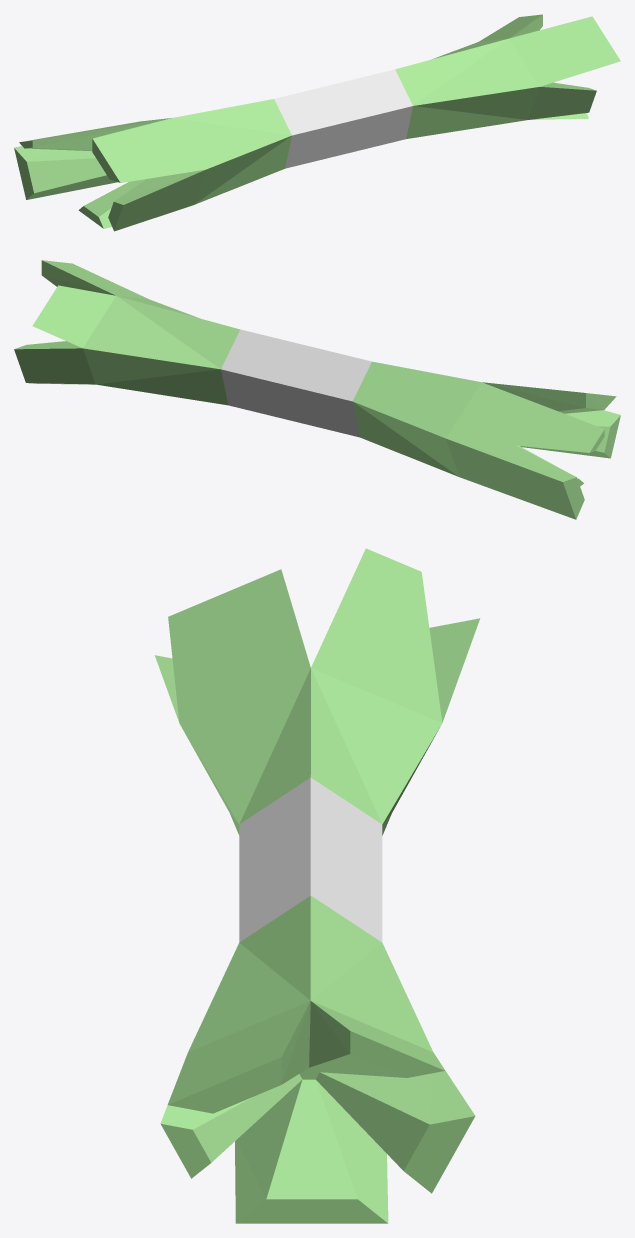
File: Mint.fbx
The picture shows the model from 3 angles, top to bottom: view 1: azimuth 30°, elevation 25°; view 2: azimuth 150°, elevation 25°; view 3: azimuth 270°, elevation 25°; orthographic projection. The views are drawn at different scales.
Parts seen in each view (by area): view 1: Mint; view 2: Mint; view 3: Mint.
Boxes of the visible parts, x1,y1,x2,y2 form: Mint: (14,14,620,231); Mint: (14,260,620,519); Mint: (154,548,480,1223).
Size of the model in its own units: 0.1873 by 0.7151 by 0.1148.
